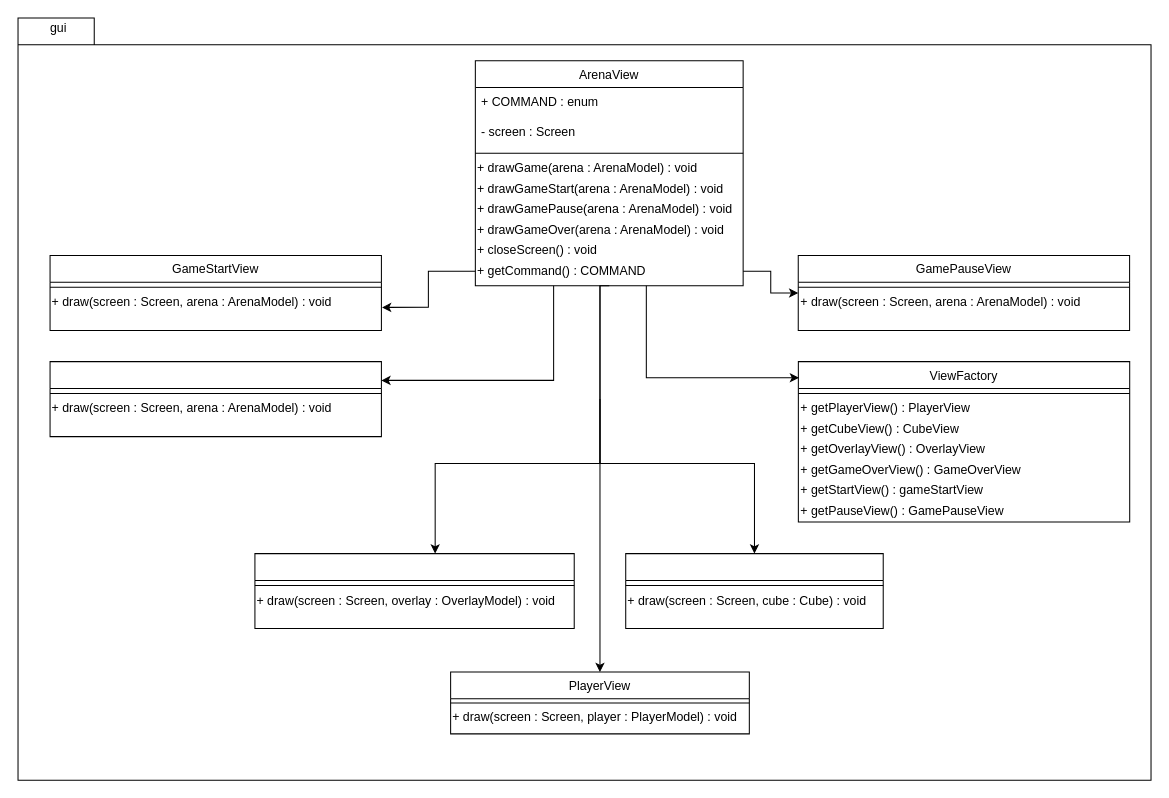
This 1169x798 diagram has some shape labels left out. Here are the shapes that lost their labels. From the top down, the box of each, then its label:
(49, 361, 381, 437): GameOverView
(254, 553, 574, 629): OverlayView
(625, 553, 883, 629): CubeView
